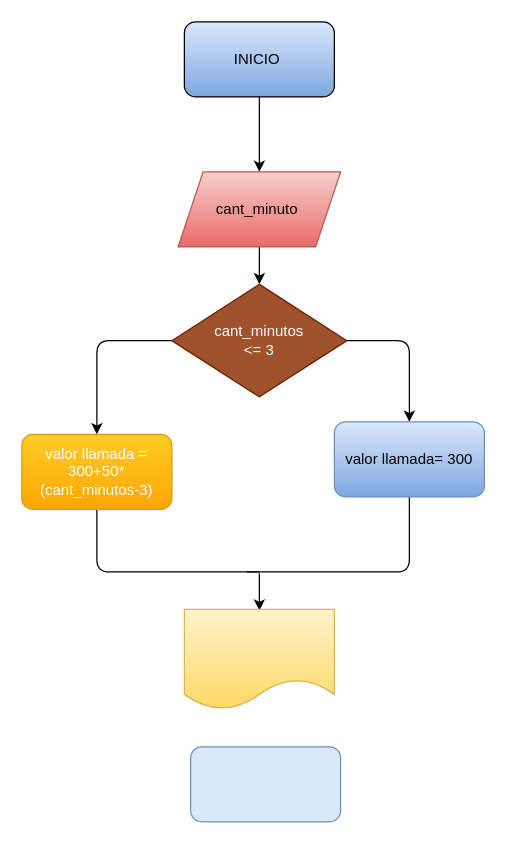
The diagram is 506 pixels wide and 844 high, and some of its shapes have lost their labels. Each missing label, with the centre of its shape:
"Fin" goes at point 265,784.
"valor llamada" goes at point 258,658.
